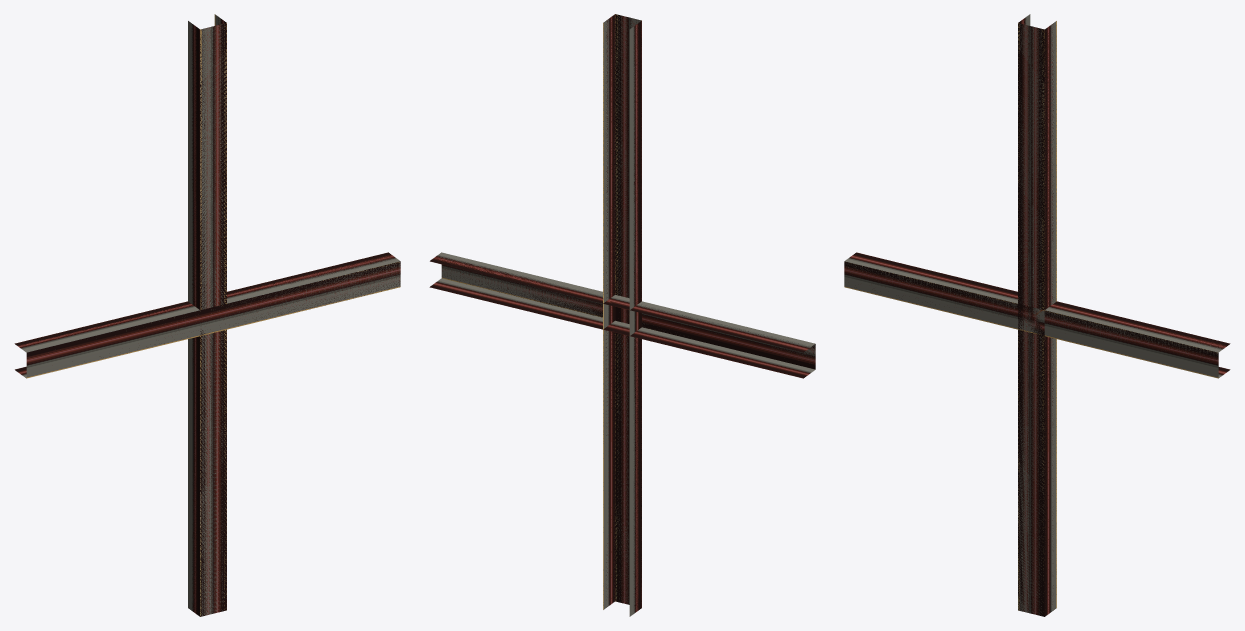
The model's file is huakuang005.obj.
The picture shows the model from 3 angles, left to right: view 1: azimuth 30°, elevation 25°; view 2: azimuth 150°, elevation 25°; view 3: azimuth 330°, elevation 25°; orthographic projection.
Parts seen in each view (by area): view 1: Right, Left, Top, Bottom; view 2: Right, Left, Bottom, Top; view 3: Right, Top, Left, Bottom.
Boxes of the visible parts, x1,y1,x2,y2 form: Right: (188, 14, 226, 616); Left: (188, 16, 226, 616); Top: (15, 252, 400, 378); Bottom: (15, 253, 400, 378); Right: (603, 14, 641, 615); Left: (603, 14, 641, 616); Bottom: (430, 252, 815, 378); Top: (429, 252, 815, 376); Right: (1018, 14, 1056, 616); Top: (844, 252, 1230, 378); Left: (1018, 15, 1056, 615); Bottom: (844, 253, 1228, 377).
Size of the model in its own units: 1 by 1.5 by 0.0566.
Materials: 1 (1 with a texture image).
